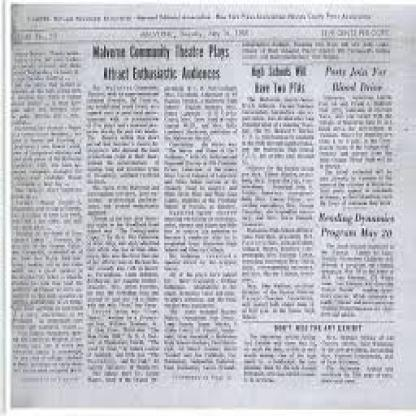Paper: (14, 6, 416, 415)
